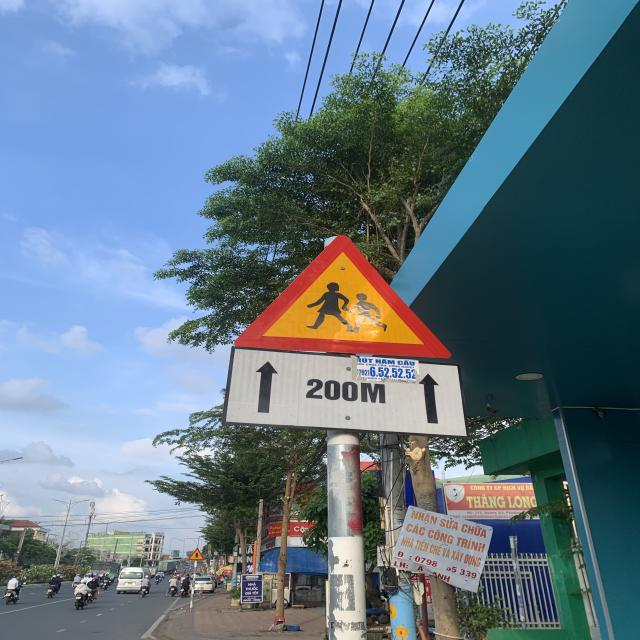Vong_Xuyen: (235, 232, 452, 359)
